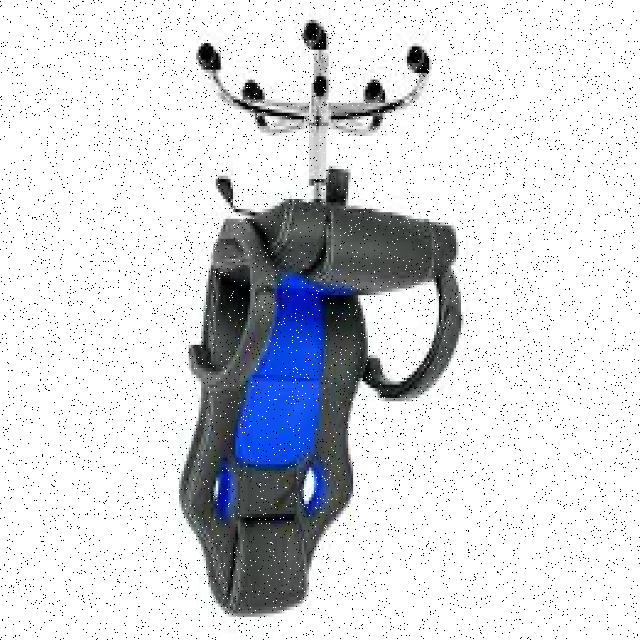bottle: (176, 18, 468, 618)
